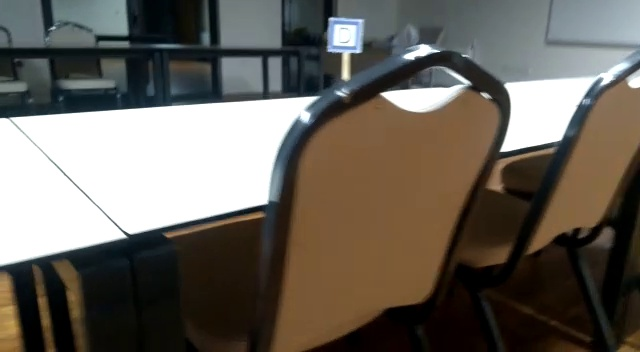durak: (326, 19, 363, 52)
